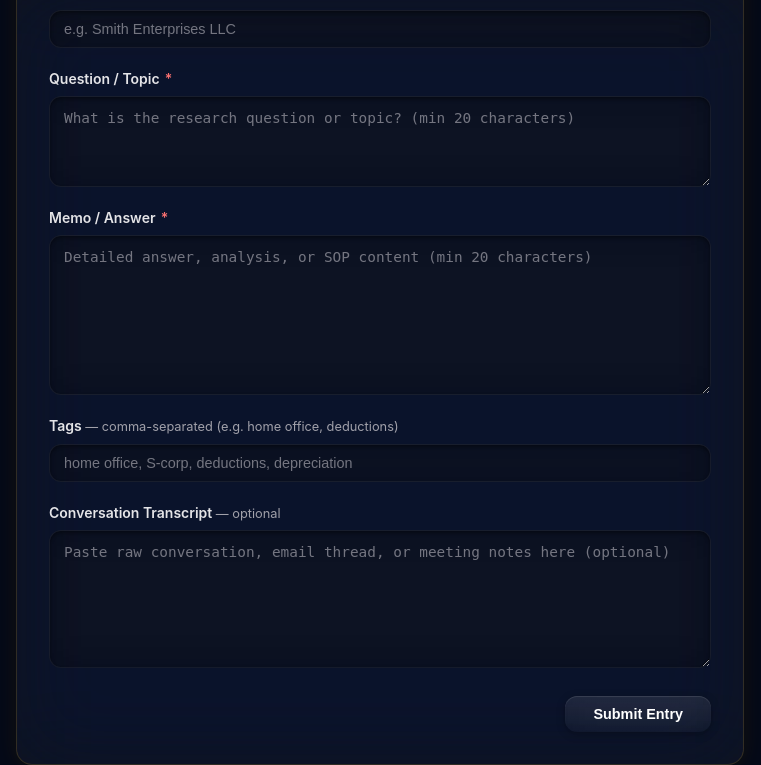
Scenario: SubmissionForm component › form validation › shows error when submitting empty required fields
(page scrolled)
Step 1. Click the button "Submit Entry" → (638, 714), box [565,696,711,732]
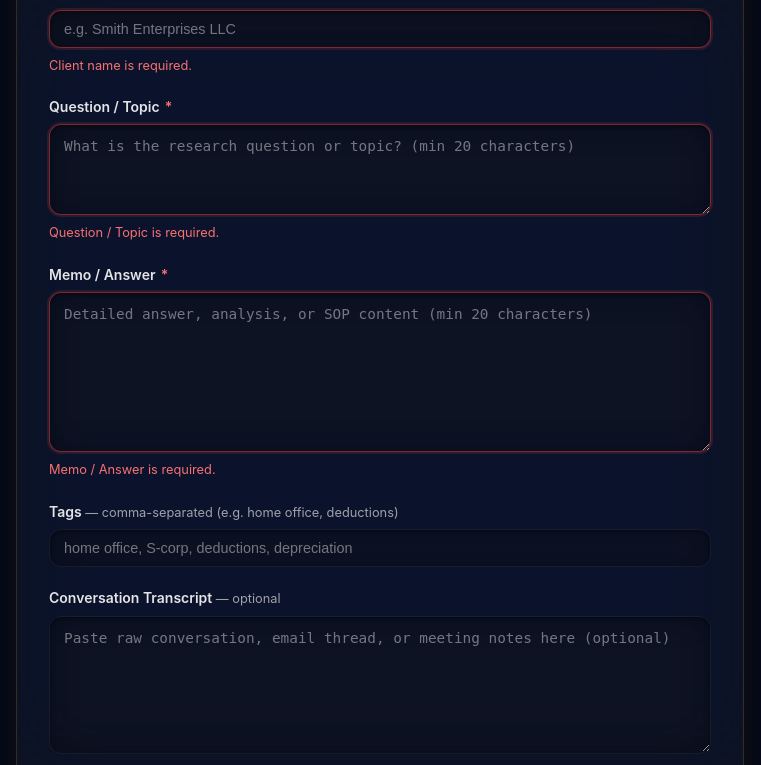
Now the text "Client name is required." is shown, box [49,58,192,73]
